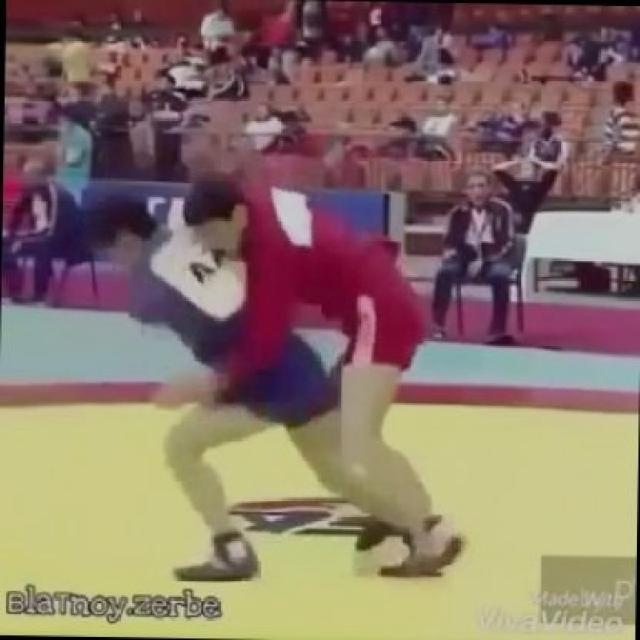fight: (84, 150, 473, 624)
non-fight: (427, 168, 532, 351), (5, 142, 86, 312)
